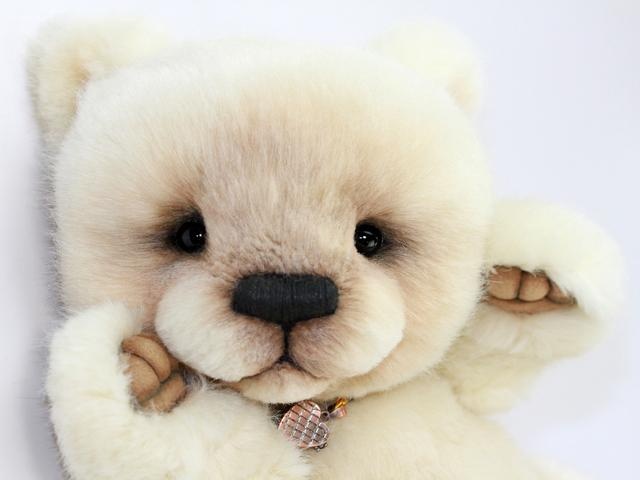Bear: (14, 10, 638, 463)
